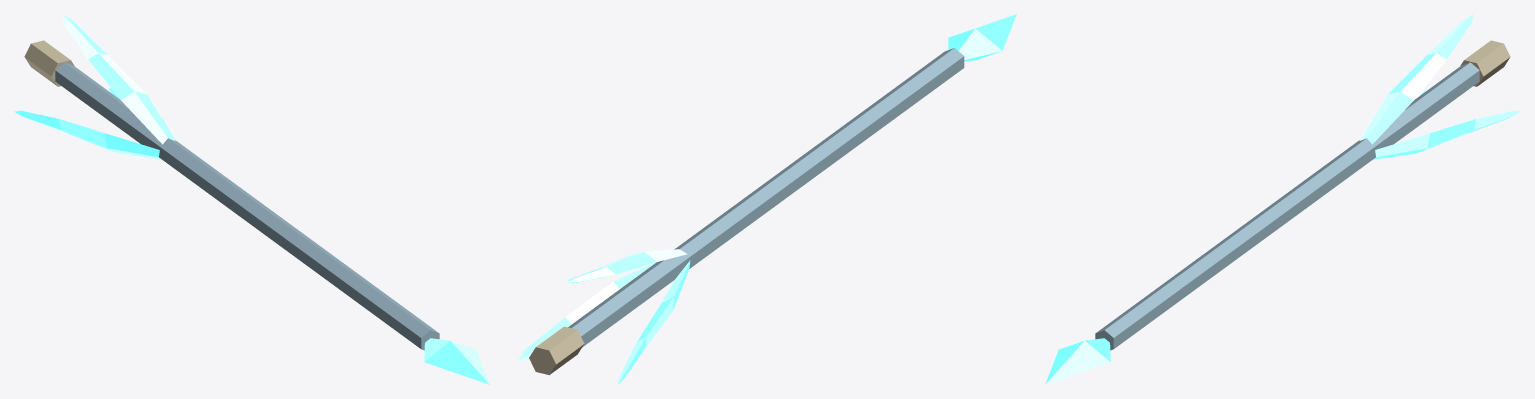
Rendered from arrow_foxfire.glb.
3 renders of one model, left to right at view 1: azimuth 30°, elevation 25°; view 2: azimuth 150°, elevation 25°; view 3: azimuth 330°, elevation 25°, orthographic. The views are drawn at different scales.
Parts seen in each view (by area): view 1: SM_Arrow_foxfire; view 2: SM_Arrow_foxfire; view 3: SM_Arrow_foxfire.
Part boxes in pixels (x1,y1,x2,y2): SM_Arrow_foxfire: [14, 14, 489, 384]; SM_Arrow_foxfire: [518, 14, 1016, 384]; SM_Arrow_foxfire: [1045, 14, 1520, 384].
Bounding box in the file's own units: 0.076 × 0.0681 × 0.6275.
